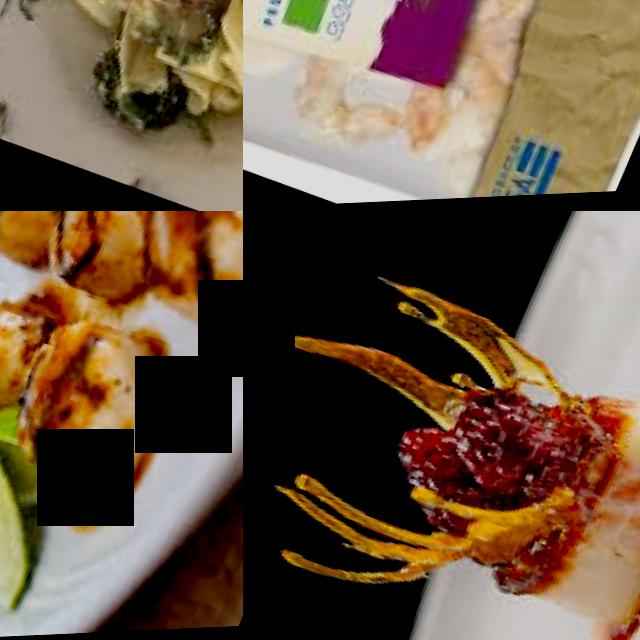sea scallops: (0, 298, 186, 492), (112, 211, 243, 352), (15, 211, 181, 309)
